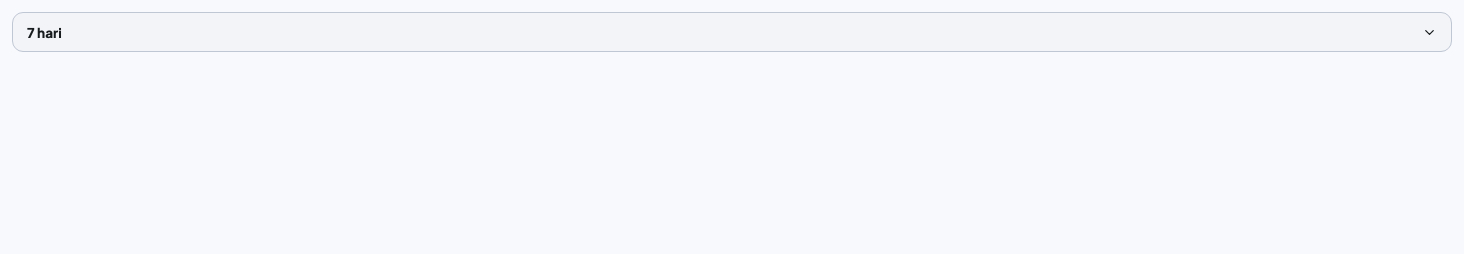
opens on the selected option, supports keyboard selection, and returns focus
This screenshot has width=1464, height=254.
Press ArrowDown in the button with aria-label "Rentang", box [12,12,1452,52]
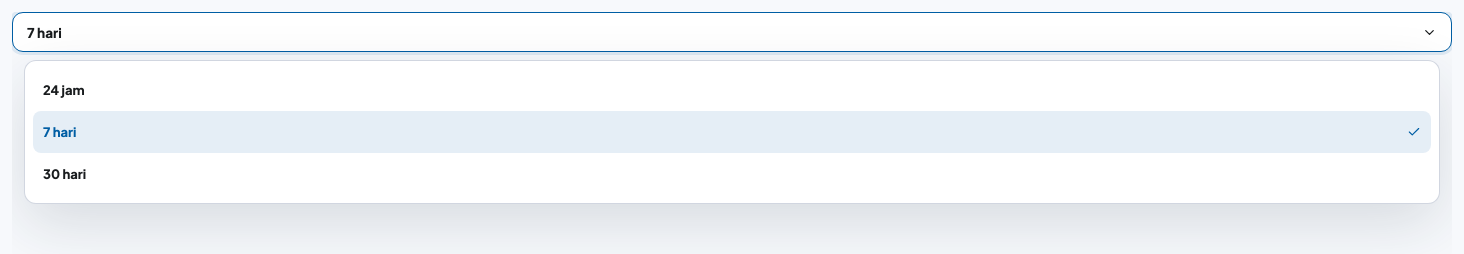
Press ArrowDown in the option "7 hari", box [33,111,1431,153]
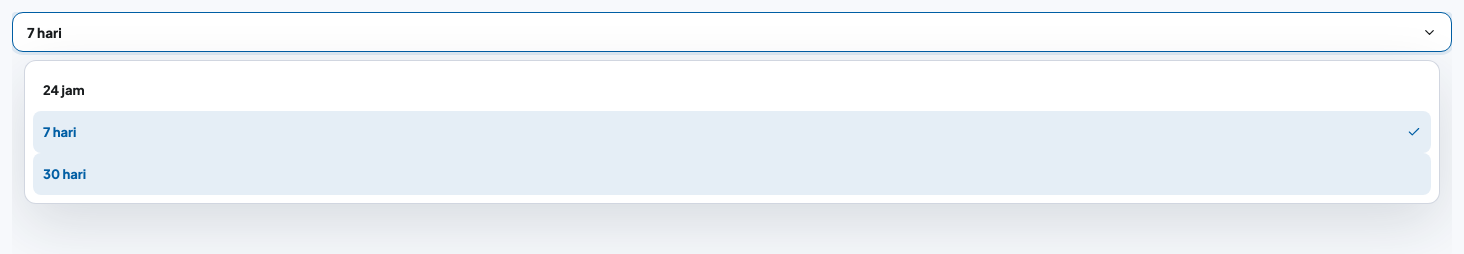
Click the option "30 hari".
click(65, 174)  # box [33,153,1431,195]
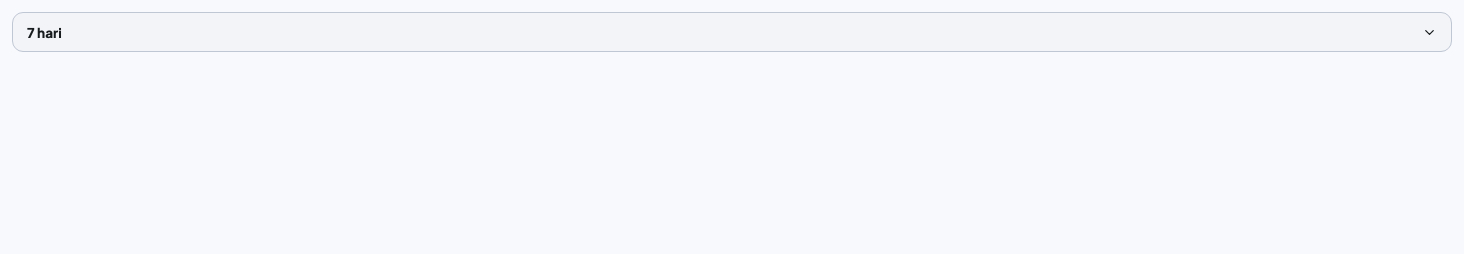
Result: the list is gone
